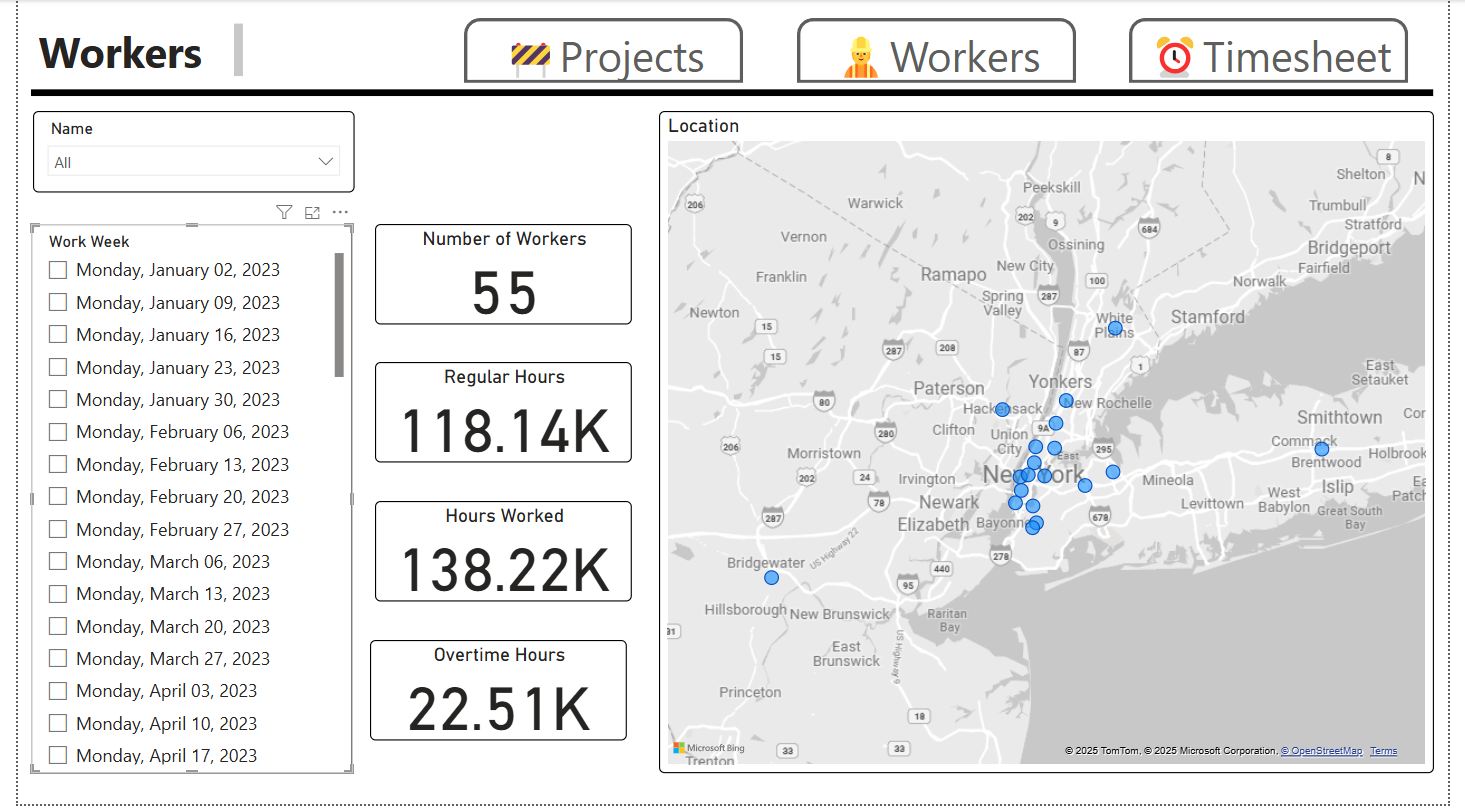

What the dashboard file says about the page in this screenshot:
{"tool":"powerbi","page":{"name":"Workers","canvas":[1280,720],"ordinal":1},"visuals":[{"type":"textbox","box":[13.6,16.5,192.6,58.4],"z":0},{"type":"actionButton","box":[995,16.5,250,58.4],"z":1000},{"type":"actionButton","box":[697.4,16.5,250,58.4],"z":2000},{"type":"actionButton","box":[399.8,16.5,250,58.4],"z":3000},{"type":"shape","box":[11.7,74.9,1255.7,15.6],"z":4000},{"type":"slicer","fields":{"Values":["Employees.Name"]},"box":[13.6,99.2,287.9,72.9],"z":5000},{"type":"slicer","fields":{"Values":["Timesheet.Work Week"]},"box":[11.7,200.4,287.9,492.2],"z":6000},{"type":"card","title":"Number of Workers","fields":{"Values":["CountNonNull(Employees.ID)"]},"box":[320,200.4,230,90],"z":7000},{"type":"card","title":"Hours Worked","fields":{"Values":["Sum(Timesheet.Hours Worked)"]},"box":[320,448.7,230,90],"z":8000},{"type":"card","title":"Regular Hours ","fields":{"Values":["Sum(Timesheet.Regular Hours)"]},"box":[320,324.5,230,90],"z":9000},{"type":"card","title":"Overtime Hours ","fields":{"Values":["Sum(Timesheet.Break hours)"]},"box":[315.1,572.9,230,90],"z":10000},{"type":"map","fields":{"Category":["Projects.Location"]},"box":[573.9,99.2,694.5,593.3],"z":11000}]}

Visuals, with their boxes in screenshot pixels (x1, y1, x2, y2), scaled from the page's 1280x720 canvas onto the 1465x808 screenshot:
textbox: [16, 19, 236, 84]
actionButton: [1139, 19, 1425, 84]
actionButton: [798, 19, 1084, 84]
actionButton: [458, 19, 744, 84]
shape: [13, 84, 1451, 102]
slicer - Employees.Name: [16, 111, 345, 193]
slicer - Timesheet.Work Week: [13, 225, 343, 777]
"Number of Workers" card: [366, 225, 629, 326]
"Hours Worked" card: [366, 504, 629, 605]
"Regular Hours " card: [366, 364, 629, 465]
"Overtime Hours " card: [361, 643, 624, 744]
map - Projects.Location: [657, 111, 1452, 777]
